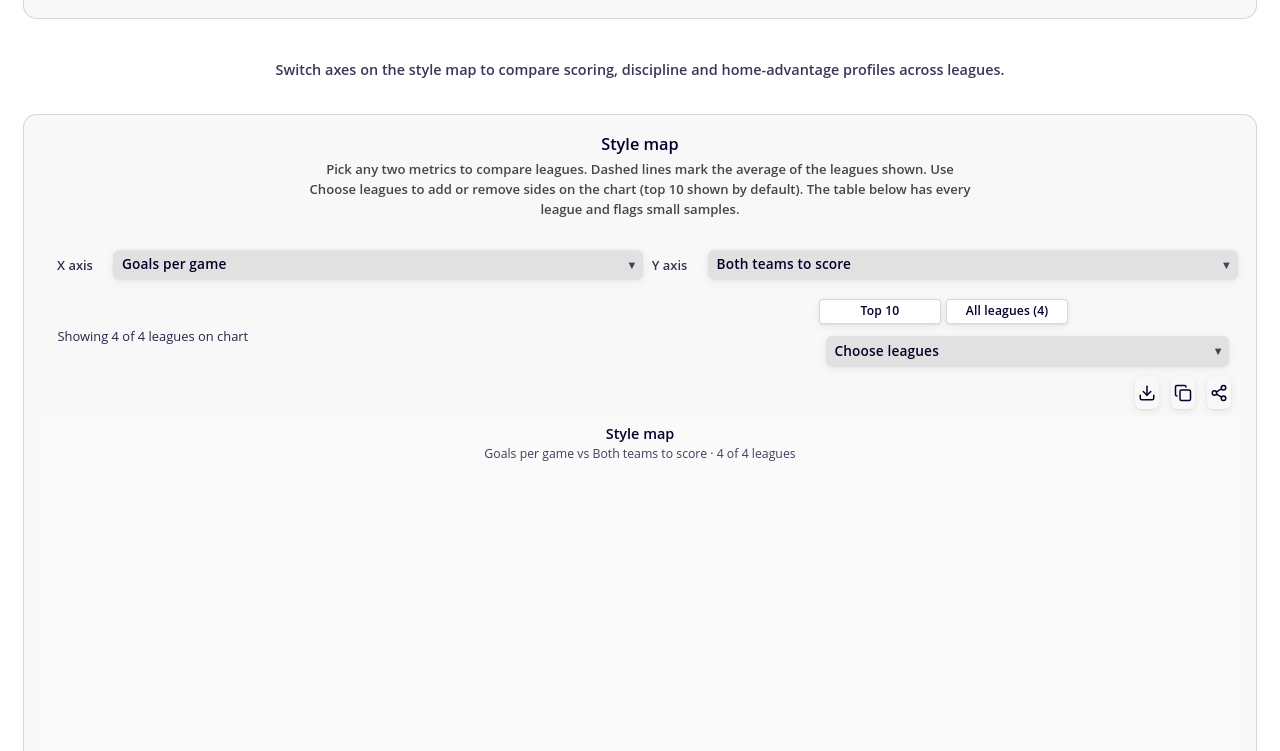
Test: CompetitionCompareCharts › shows compact league picker and toggles selection in popover
This screenshot has width=1280, height=751.
(page scrolled)
Expected: the button "Top 10" is shown, [819,299,941,324]
Expected: the button "All leagues (4)" is shown, [946,299,1068,324]
Click the button "Choose leagues ▾": click(887, 350) [826,336,1229,366]
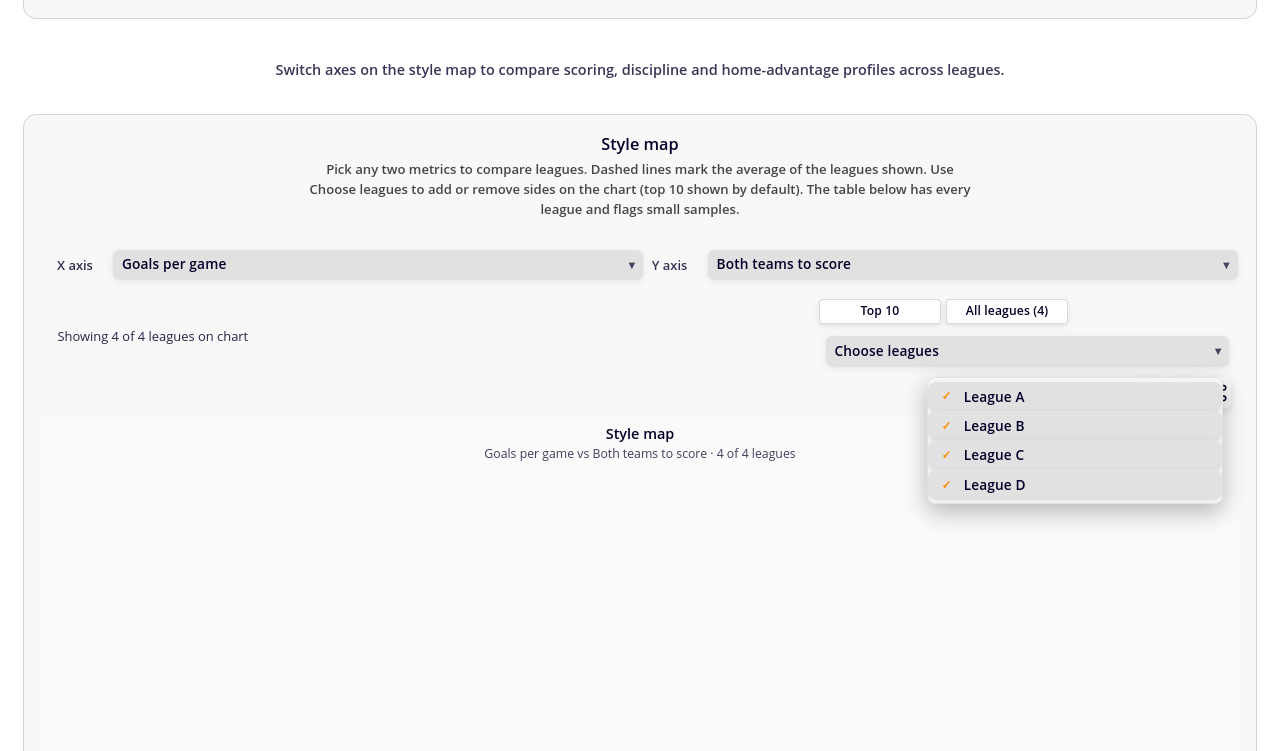
Click the option "✓ League B": click(994, 426) [928,411,1222,440]
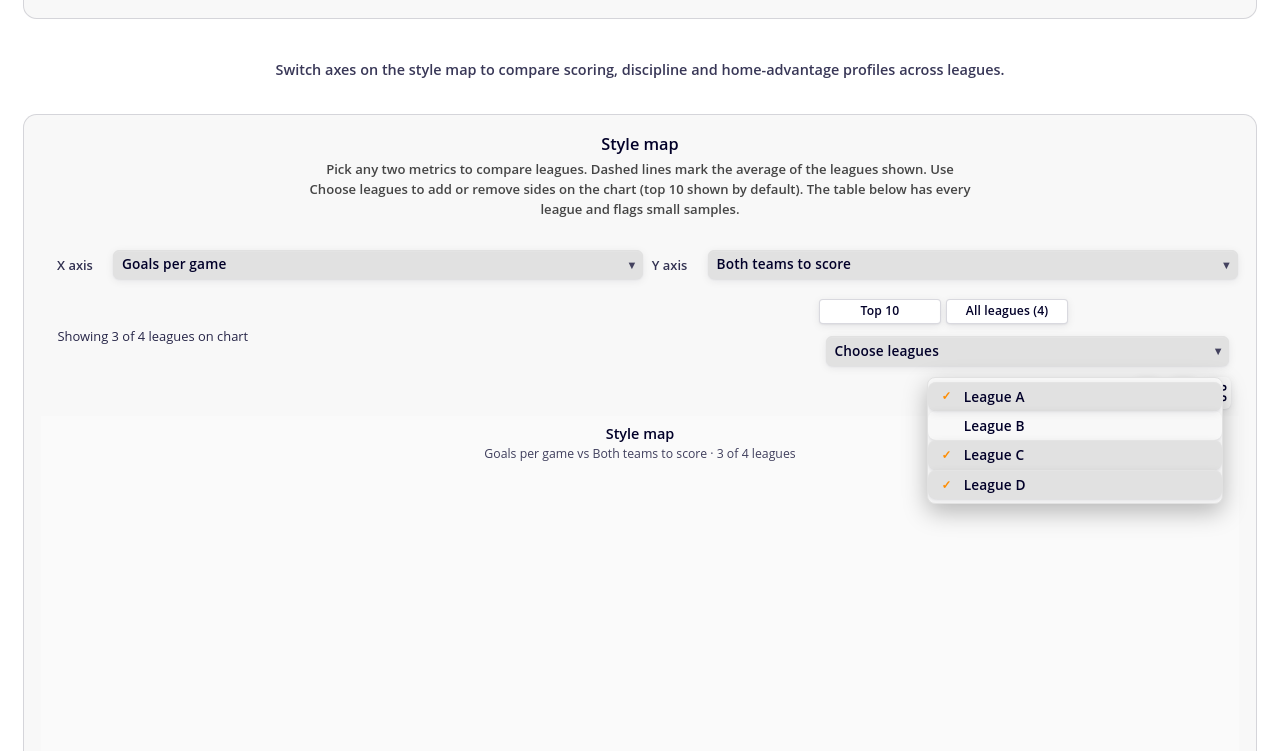
Result: the text "Showing 3 of 4 leagues on chart" is shown at [57,327,248,345]
